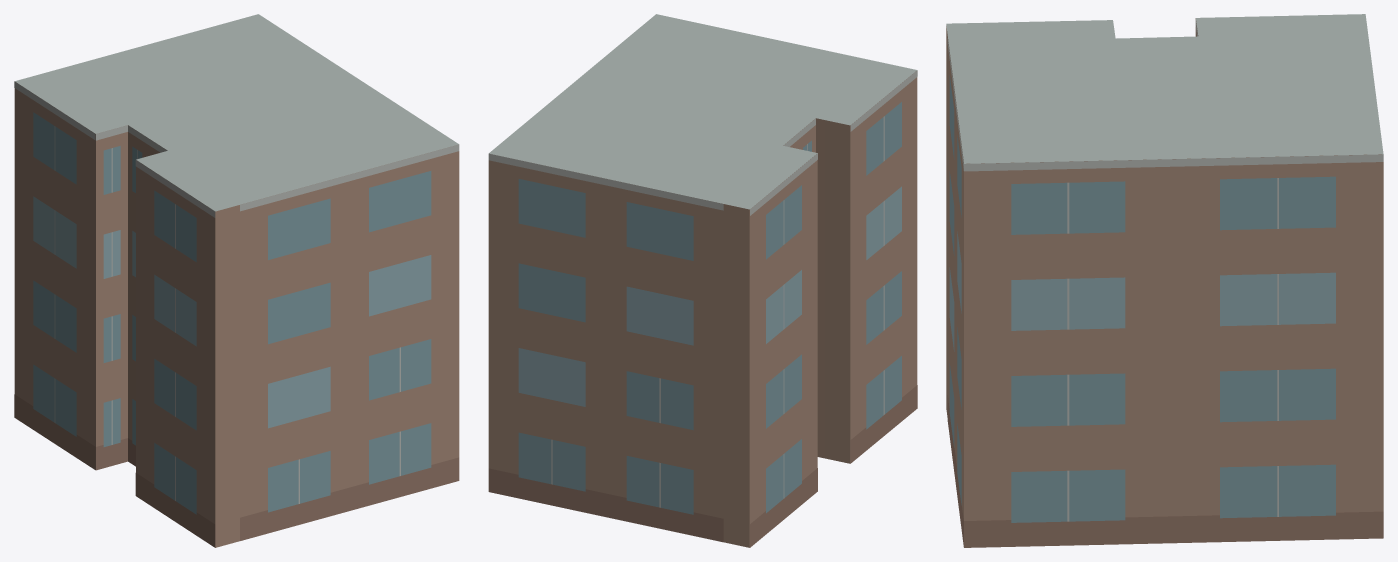
Rendered from survey-upis-32748831.glb.
The picture shows the model from 3 angles, left to right: view 1: azimuth 30°, elevation 25°; view 2: azimuth 150°, elevation 25°; view 3: azimuth 270°, elevation 25°; orthographic projection. The views are drawn at different scales.
Visible parts, largest first — view 1: survey-upis-32748831.tmp; view 2: survey-upis-32748831.tmp; view 3: survey-upis-32748831.tmp.
Part boxes in pixels (x1,y1,x2,y2): survey-upis-32748831.tmp: (14,14,459,547); survey-upis-32748831.tmp: (488,14,917,547); survey-upis-32748831.tmp: (946,14,1383,547).
Bounding box in the file's own units: 10.26 × 12.25 × 12.65.
